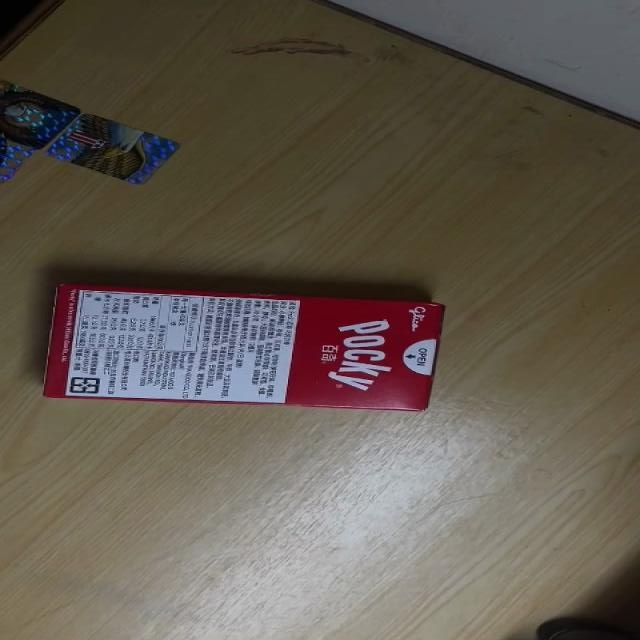Pocky: (43, 281, 447, 412)
